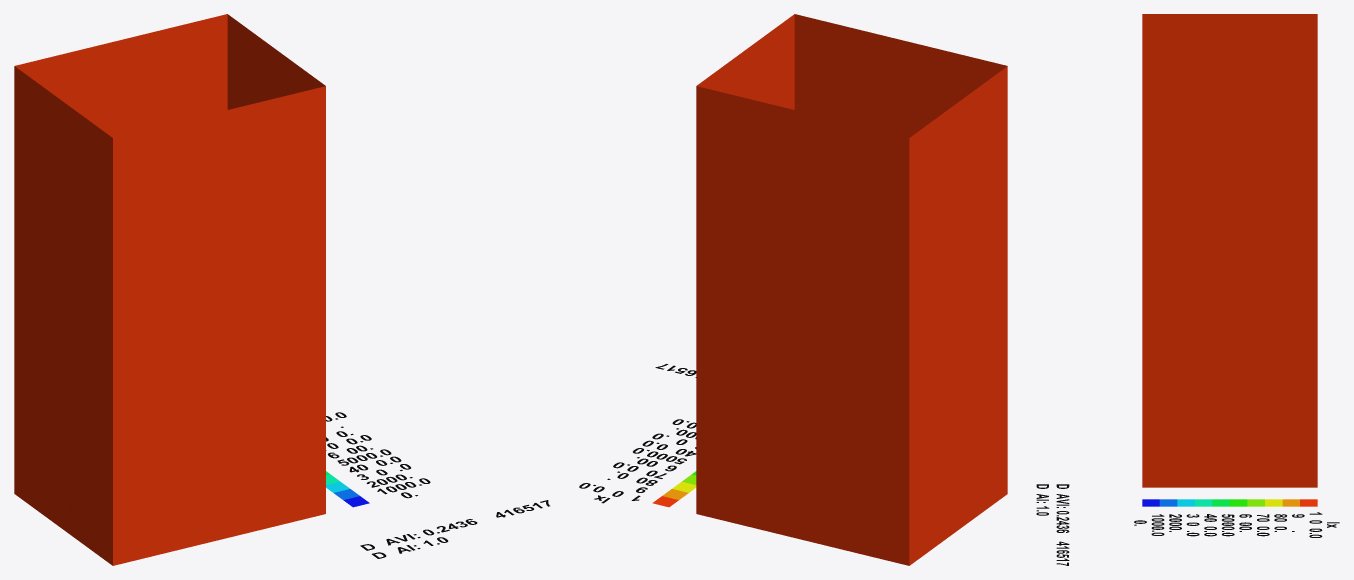
The model's file is example1_part_dfavi.dae.
3 views of the same model, side by side, from view 1: azimuth 30°, elevation 25°; view 2: azimuth 150°, elevation 25°; view 3: azimuth 270°, elevation 25° (orthographic). The views are drawn at different scales.
Visible parts, largest first — view 1: node0 (×2); view 2: node0 (×2); view 3: node0 (×2).
Part boxes in pixels (left/top/right/bottom): node0 (×2): left=14, top=14, right=549, bottom=565; node0 (×2): left=579, top=14, right=1007, bottom=565; node0 (×2): left=1036, top=14, right=1339, bottom=565.
Size of the model in its own units: 46.21 by 34.63 by 48.
